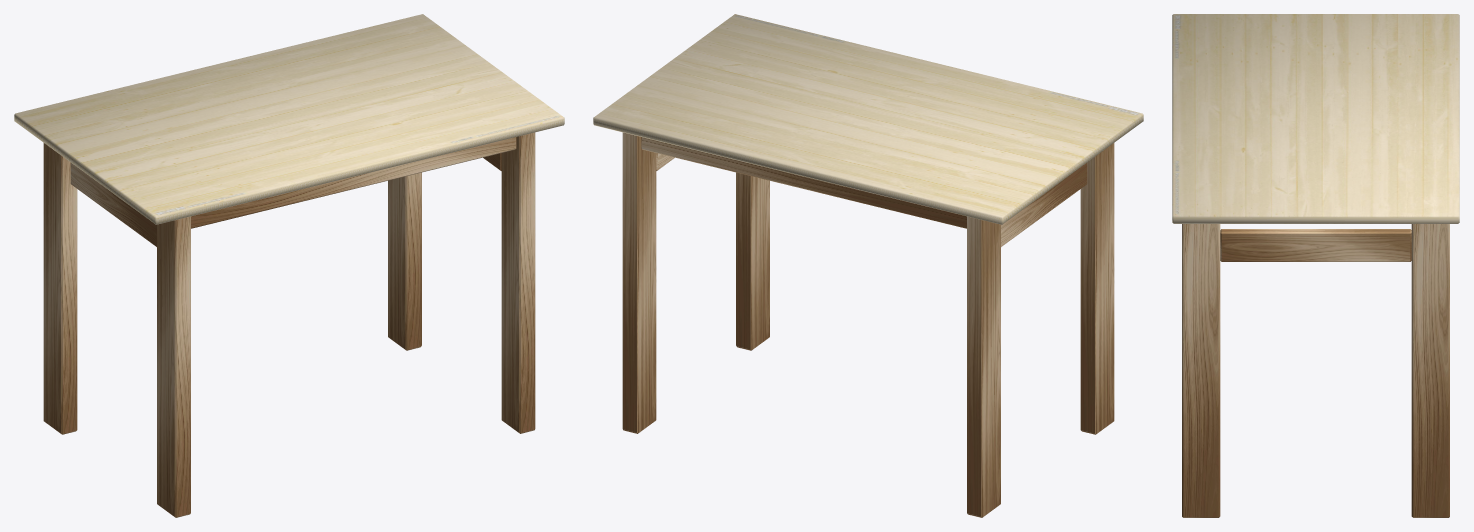
Rendered from table.FBX.
3 views of the same model, side by side, from view 1: azimuth 30°, elevation 25°; view 2: azimuth 150°, elevation 25°; view 3: azimuth 270°, elevation 25° (orthographic).
Visible parts, largest first — view 1: ChamferBox014, ChamferBox006, ChamferBox001, ChamferBox011, ChamferBox010, ChamferBox005, ChamferBox007; view 2: ChamferBox014, ChamferBox010, ChamferBox011, ChamferBox001, ChamferBox006, ChamferBox009, ChamferBox007; view 3: ChamferBox014, ChamferBox006, ChamferBox010, ChamferBox008.
Part boxes in pixels (x1,y1,x2,y2): ChamferBox014: [14, 14, 564, 224]; ChamferBox006: [501, 132, 535, 433]; ChamferBox001: [157, 216, 190, 517]; ChamferBox011: [43, 143, 77, 434]; ChamferBox010: [388, 172, 421, 350]; ChamferBox005: [191, 137, 516, 228]; ChamferBox007: [70, 163, 156, 246]; ChamferBox014: [593, 14, 1143, 224]; ChamferBox010: [622, 132, 656, 433]; ChamferBox011: [967, 216, 1000, 517]; ChamferBox001: [1080, 143, 1114, 434]; ChamferBox006: [736, 172, 769, 350]; ChamferBox009: [641, 137, 966, 228]; ChamferBox007: [1001, 163, 1087, 246]; ChamferBox014: [1172, 14, 1459, 223]; ChamferBox006: [1182, 224, 1220, 517]; ChamferBox010: [1411, 224, 1449, 517]; ChamferBox008: [1220, 229, 1411, 261].
Size of the model in its own units: 1000 by 725 by 600.
2 materials, 2 textured.
